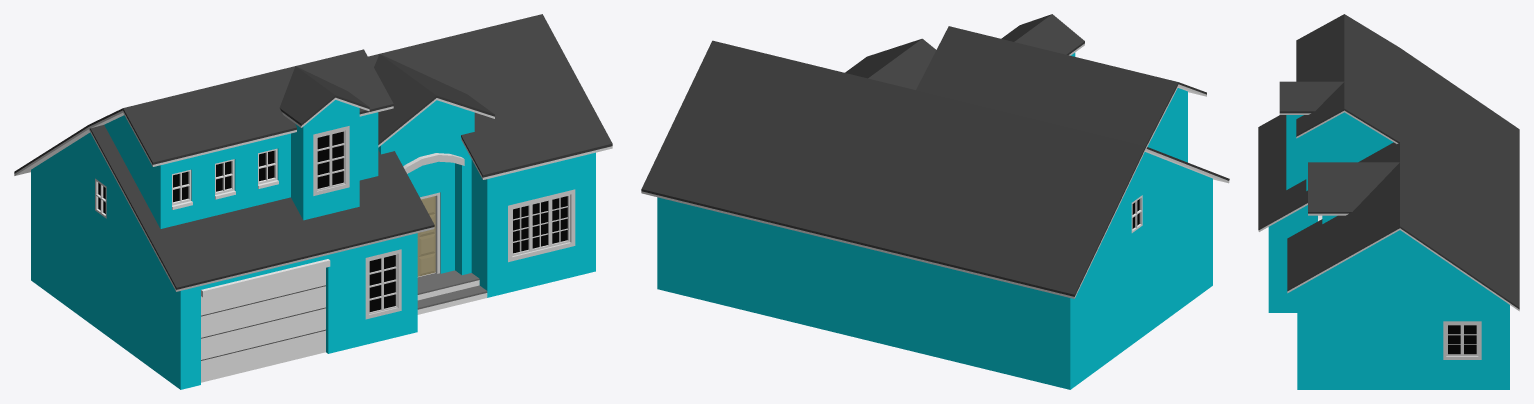
File: House-25.fbx
3 views of the same model, side by side, from view 1: azimuth 30°, elevation 25°; view 2: azimuth 150°, elevation 25°; view 3: azimuth 270°, elevation 25° (orthographic). The views are drawn at different scales.
Visible parts, largest first — view 1: House-100; view 2: House-100; view 3: House-100.
Part boxes in pixels (x1,y1,x2,y2): House-100: (14,14,612,389); House-100: (641,14,1229,389); House-100: (1258,14,1519,389).
Size of what is drawn, in the model's own units: 14 by 7.37 by 8.67.
